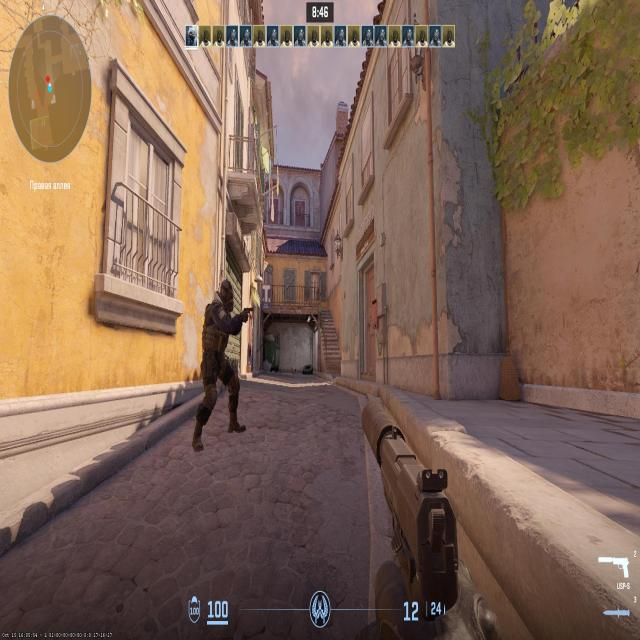CT: (215, 281, 232, 406)
CT_heat: (218, 290, 230, 312)
